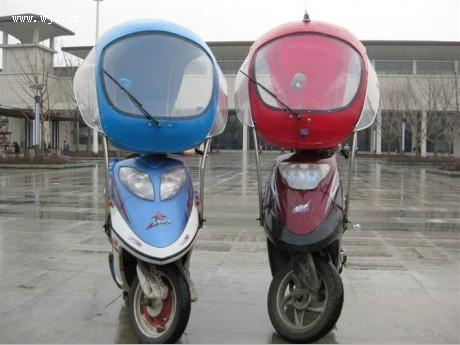non-vehicle: (101, 102, 215, 344), (245, 110, 355, 343)
